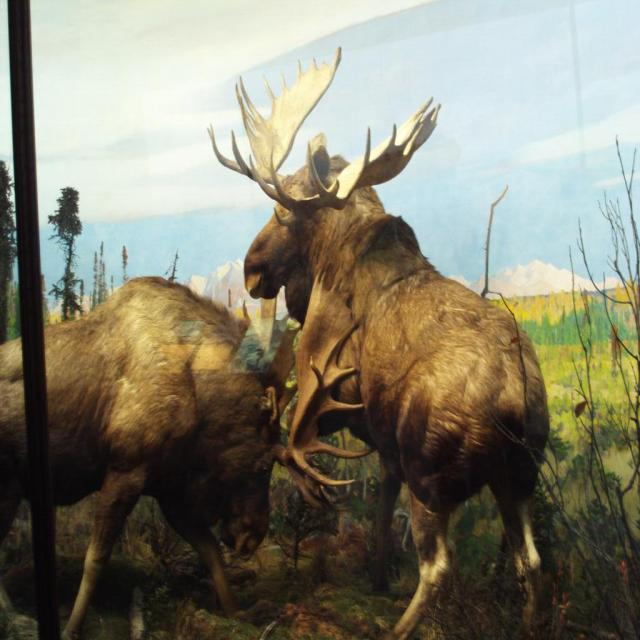Deer: (205, 43, 552, 640), (0, 275, 379, 639)
